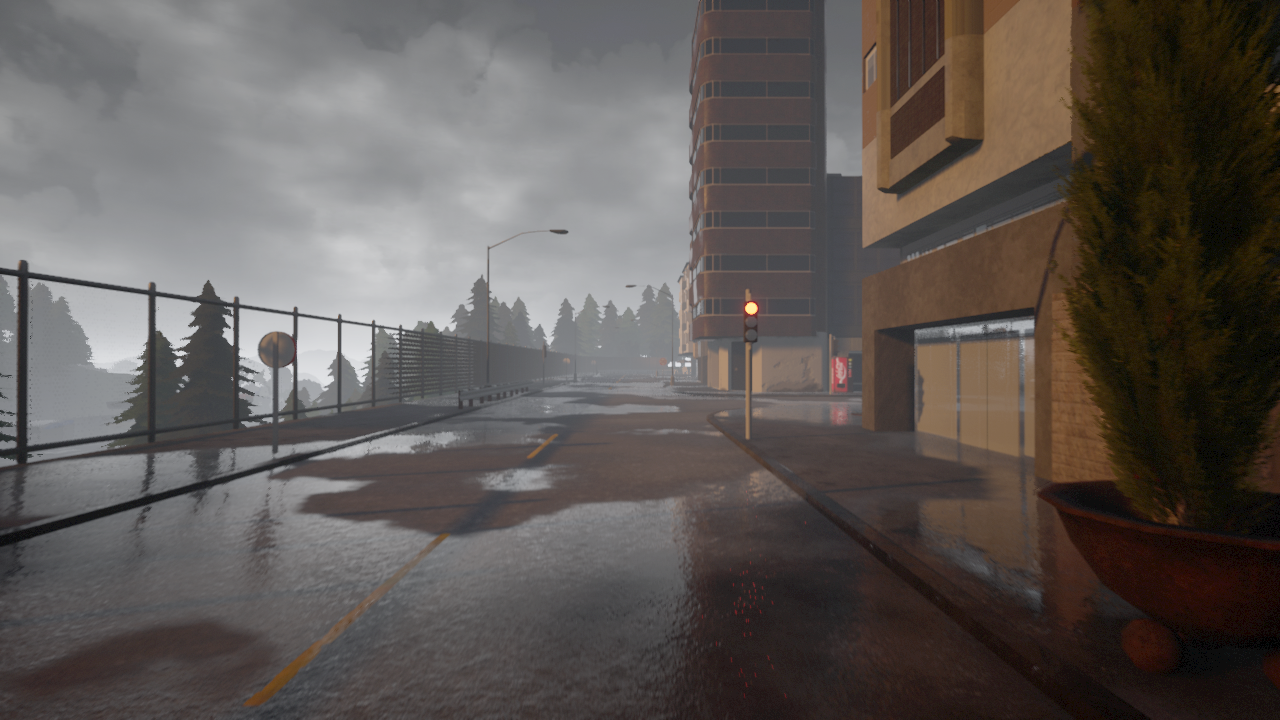red: (743, 300, 758, 342)
